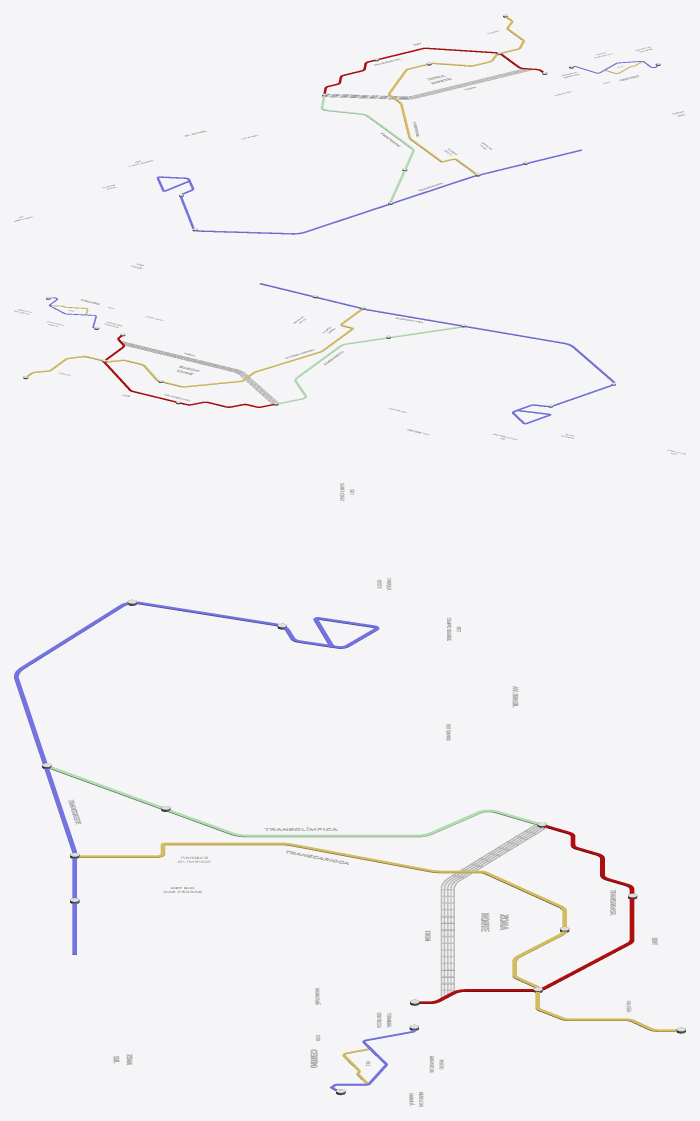
The model's file is linhas_textos.glb.
The picture shows the model from 3 angles, top to bottom: view 1: azimuth 30°, elevation 25°; view 2: azimuth 150°, elevation 25°; view 3: azimuth 270°, elevation 25°; orthographic projection. The views are drawn at different scales.
Visible parts, largest first — view 1: linhas_textos; view 2: linhas_textos; view 3: linhas_textos.
Boxes of the visible parts, left/top/right/bottom form: linhas_textos: left=14, top=14, right=685, bottom=234; linhas_textos: left=14, top=263, right=685, bottom=454; linhas_textos: left=14, top=483, right=685, bottom=1106.
Bounding box in the file's own units: 9.27 × 0.0304 × 4.23.
